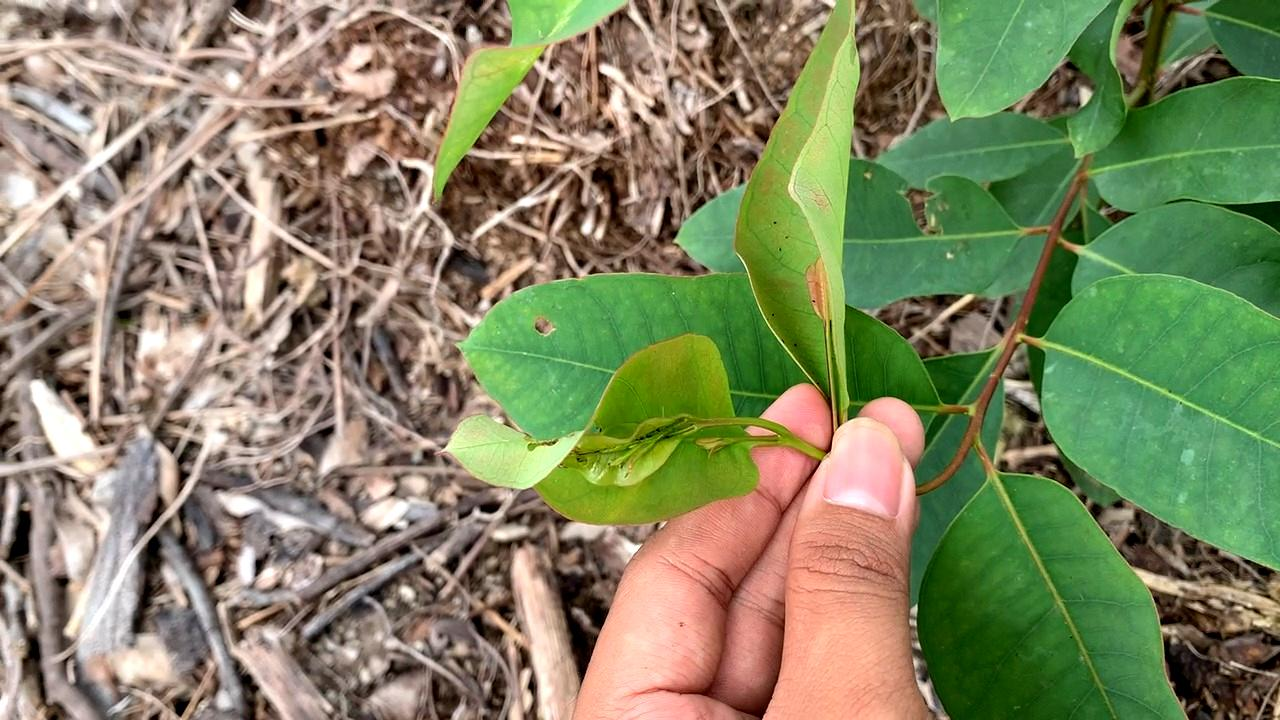Leaf Roller - Leaf: (440, 335, 747, 540)
